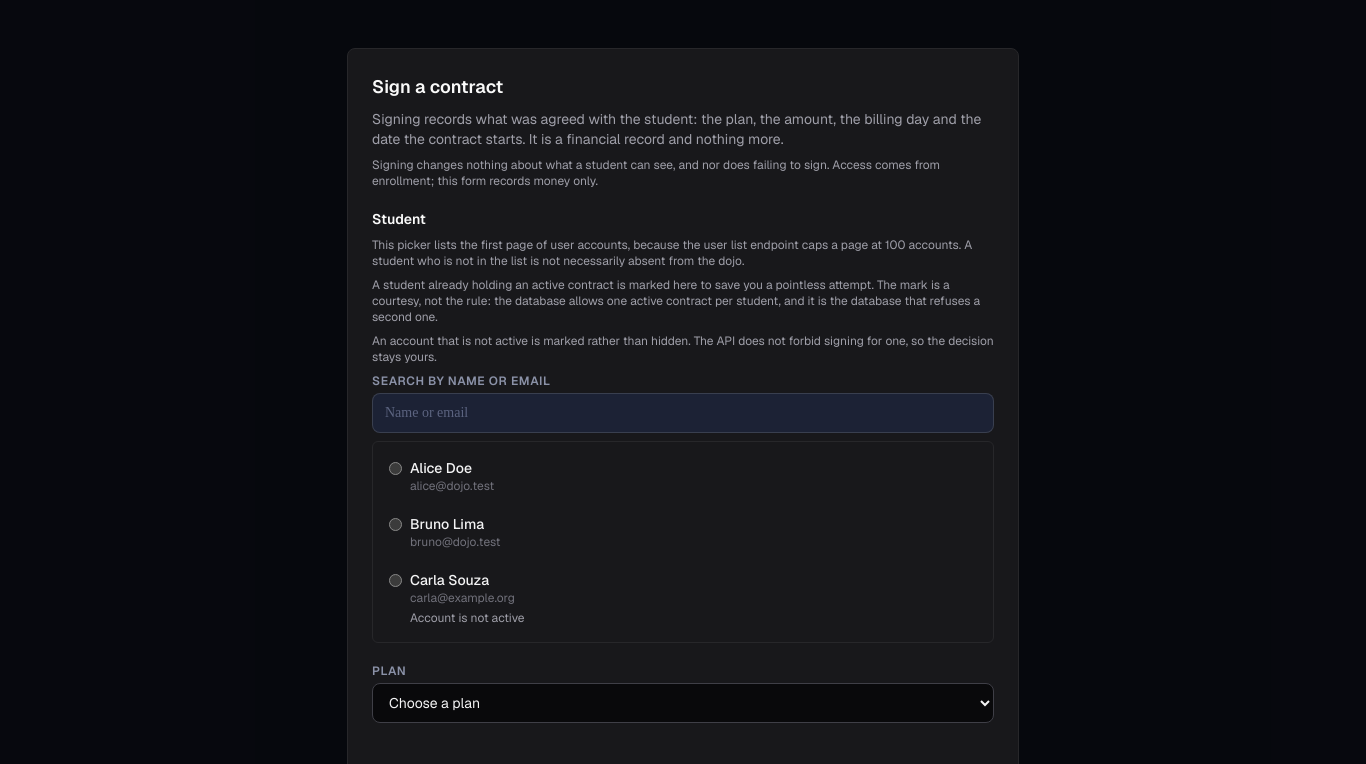
Test case: SignContractDialog › refuses a billing day outside 1 to 28 and issues no request
The image size is (1366, 764).
Click the radio button labelled "Alice Doe alice@dojo.test" at (396, 468), box [389,462,402,475]
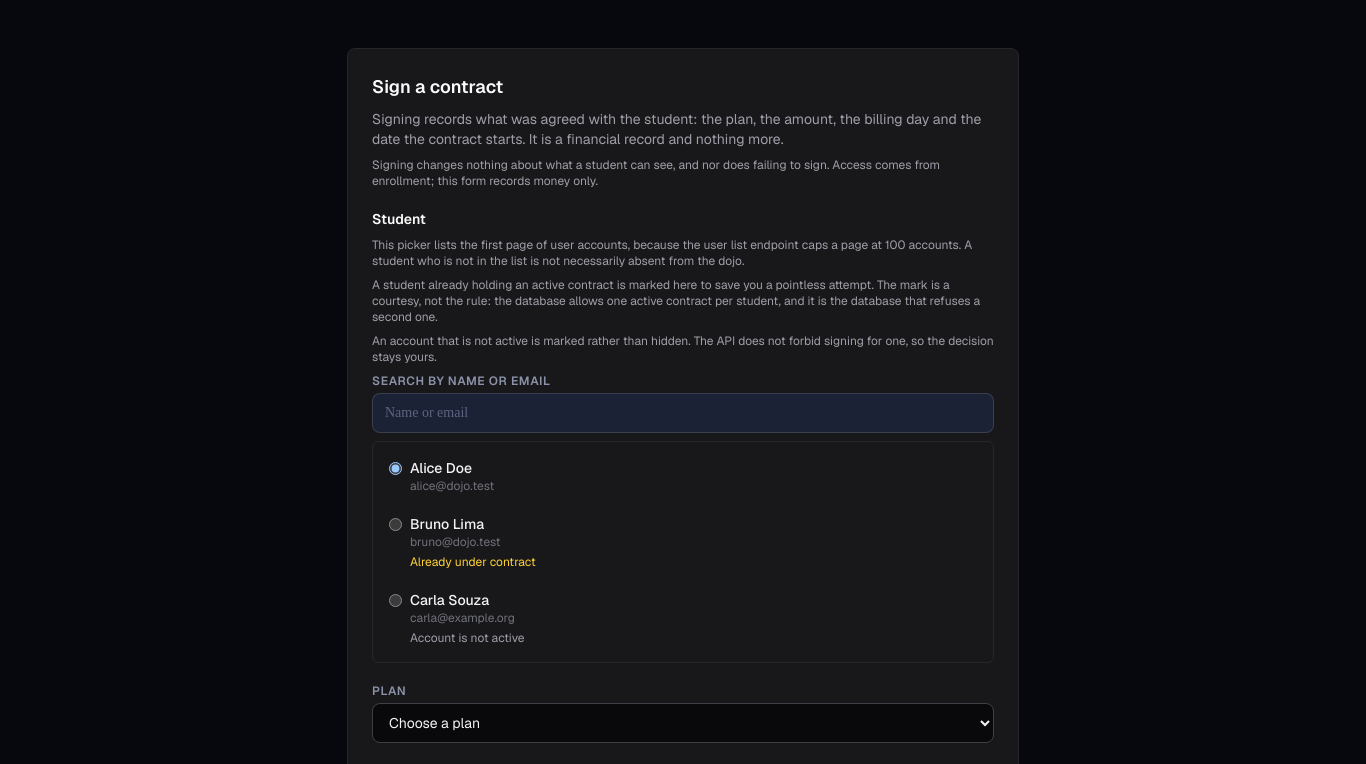
Select "Monthly membership" in the dropdown labelled "Plan" at (683, 723), box [372,703,994,743]
(page scrolled)
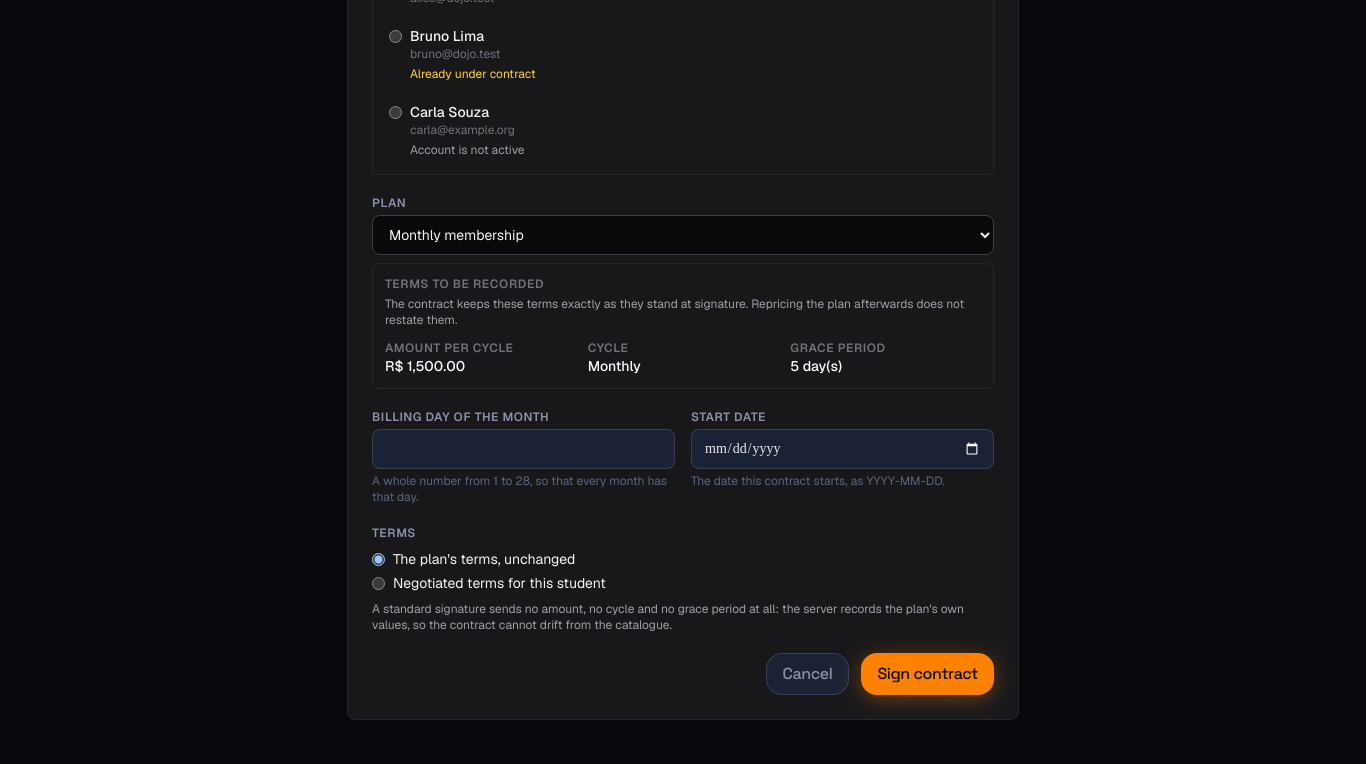
Type "31" into the field labelled "Billing day of the month" at (524, 449), box [372,429,675,469]
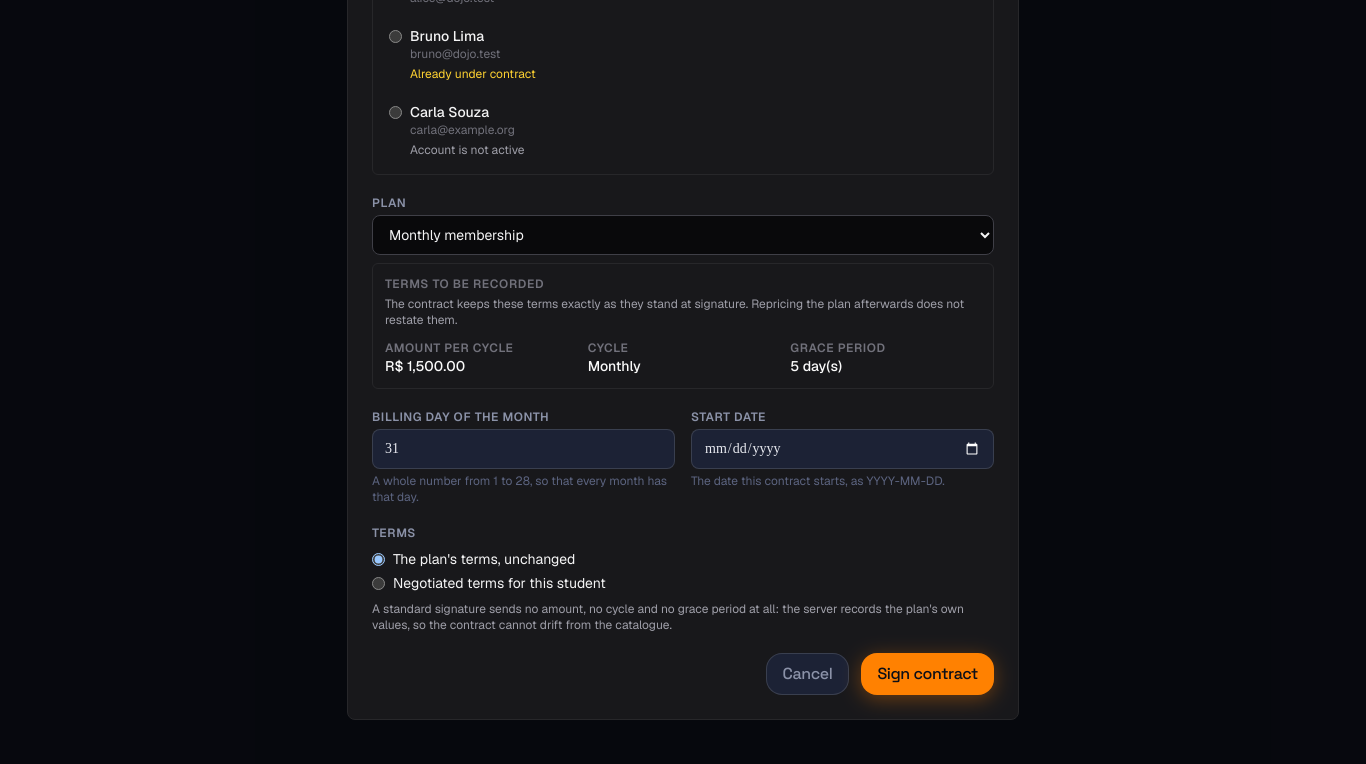
Type "2026-10-01" into the date field labelled "Start date" at (842, 449), box [691,429,994,469]
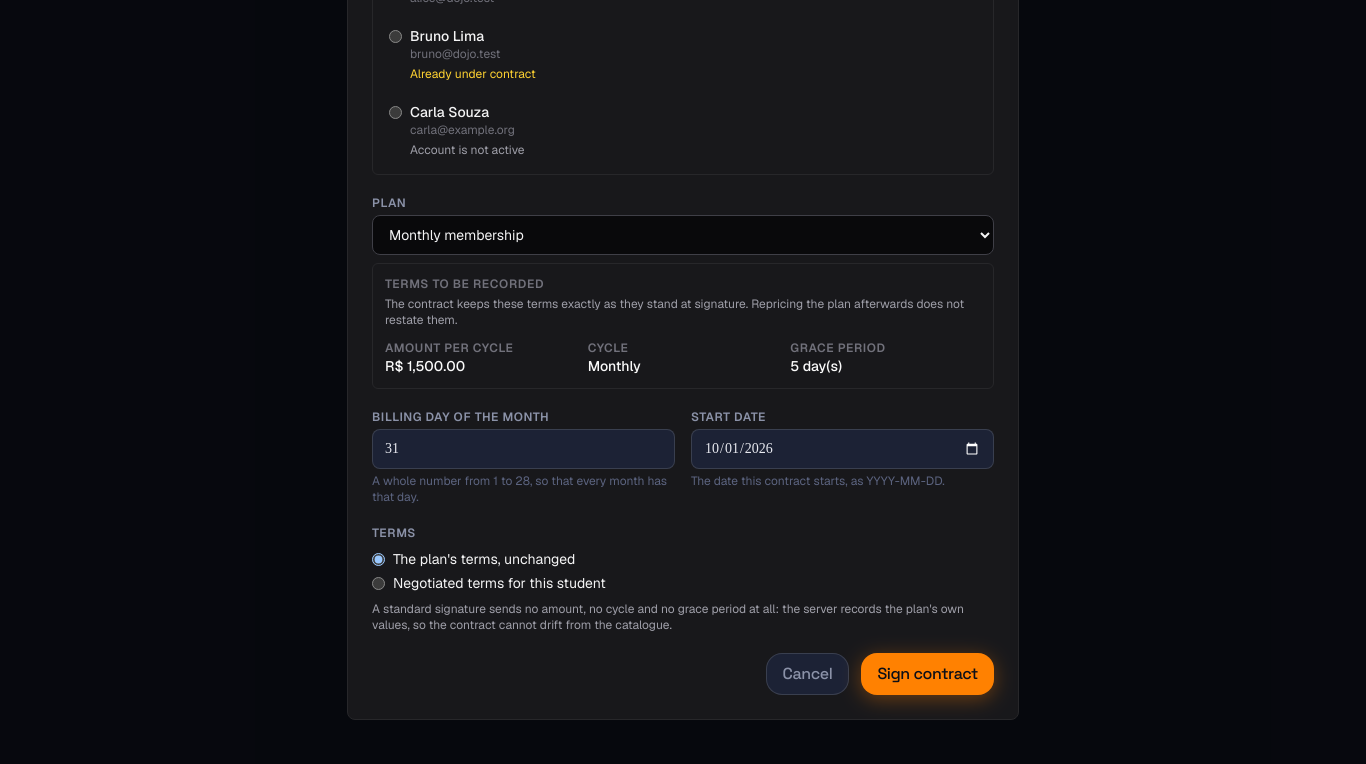
Click the button "Sign contract" at (928, 674), box [861,653,994,695]
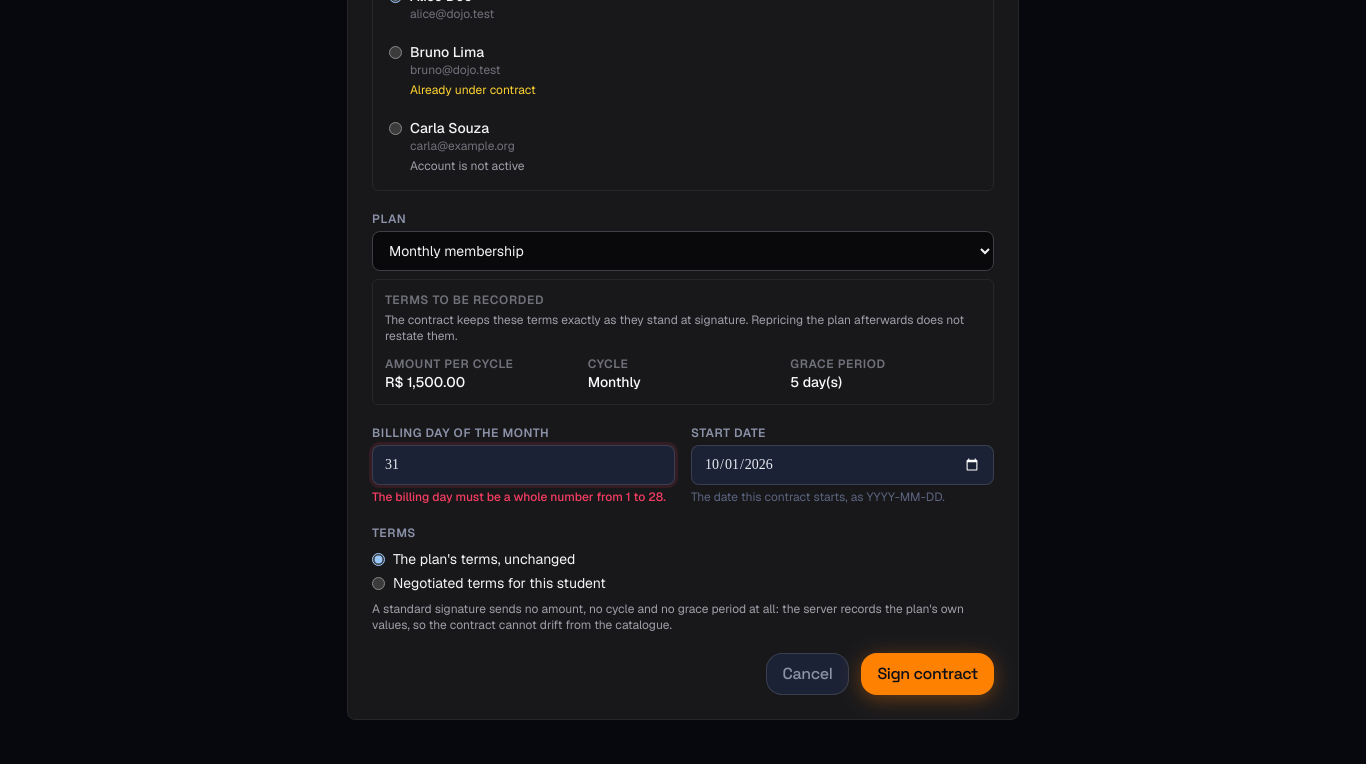
expect the text "The billing day must be a whole number from 1 to 28." is shown: met, box [372,489,675,505]
